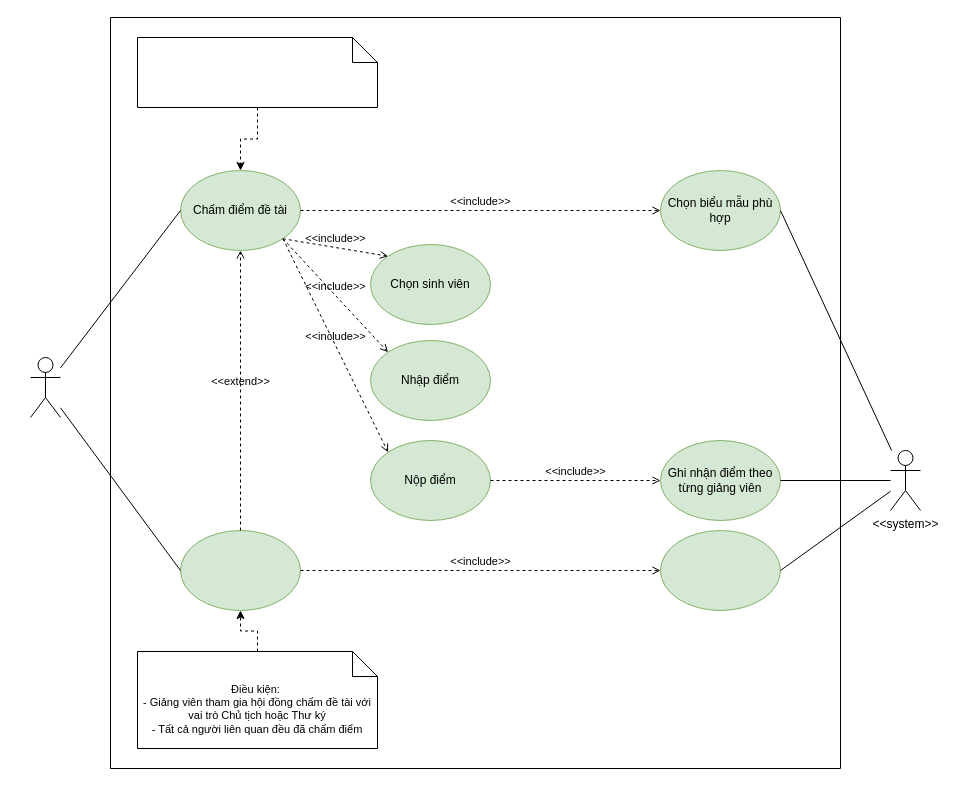
Image size: 956x786. Some labels were removed from this diagram. The shapes that lost their labels are listed below. From the top down, each one's box as (x1, y1, x2, y2) in pixels, then its label:
(136, 36, 378, 108): Điều kiện: Giảng viên được giao hoặc hướng dẫn đề tài phù hợp với giai đoạn
(30, 356, 60, 418): Giảng viên
(180, 530, 300, 610): Tổng hợp điểm
(660, 530, 780, 610): Cập nhật điểm, trạng thái cho đề tài
